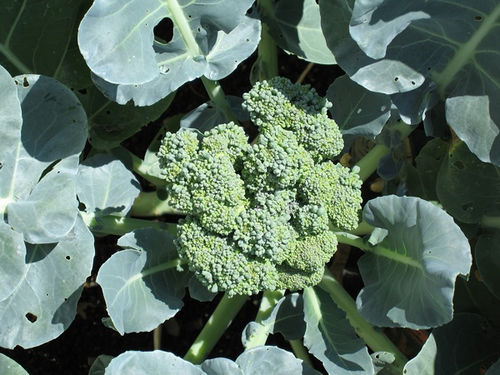broccoli: (159, 78, 376, 300)
